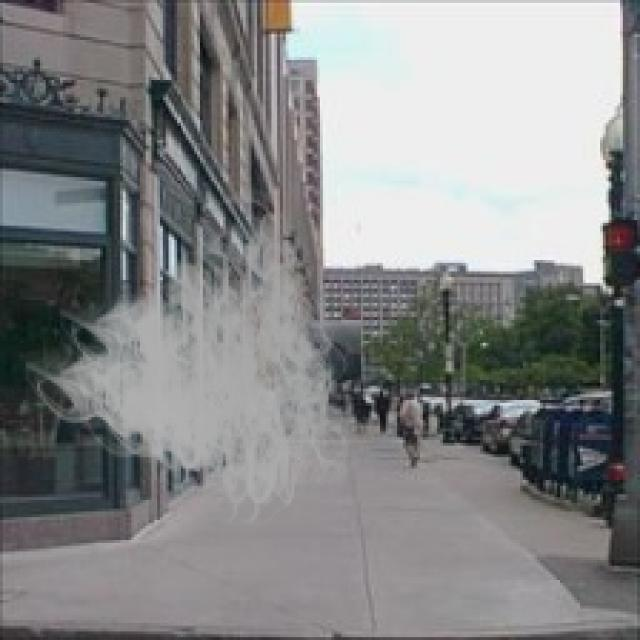Smoke: (26, 182, 372, 538)
